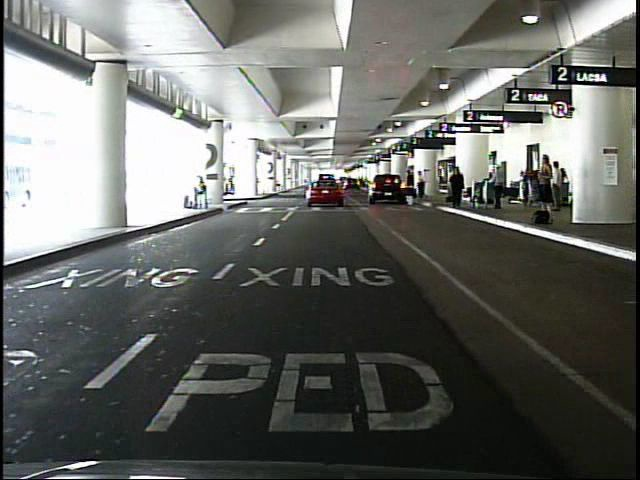person: (535, 153, 558, 212), (194, 173, 211, 213), (450, 167, 466, 209), (552, 162, 565, 213), (493, 164, 506, 211), (449, 165, 461, 204), (406, 170, 417, 208), (418, 169, 428, 199)
